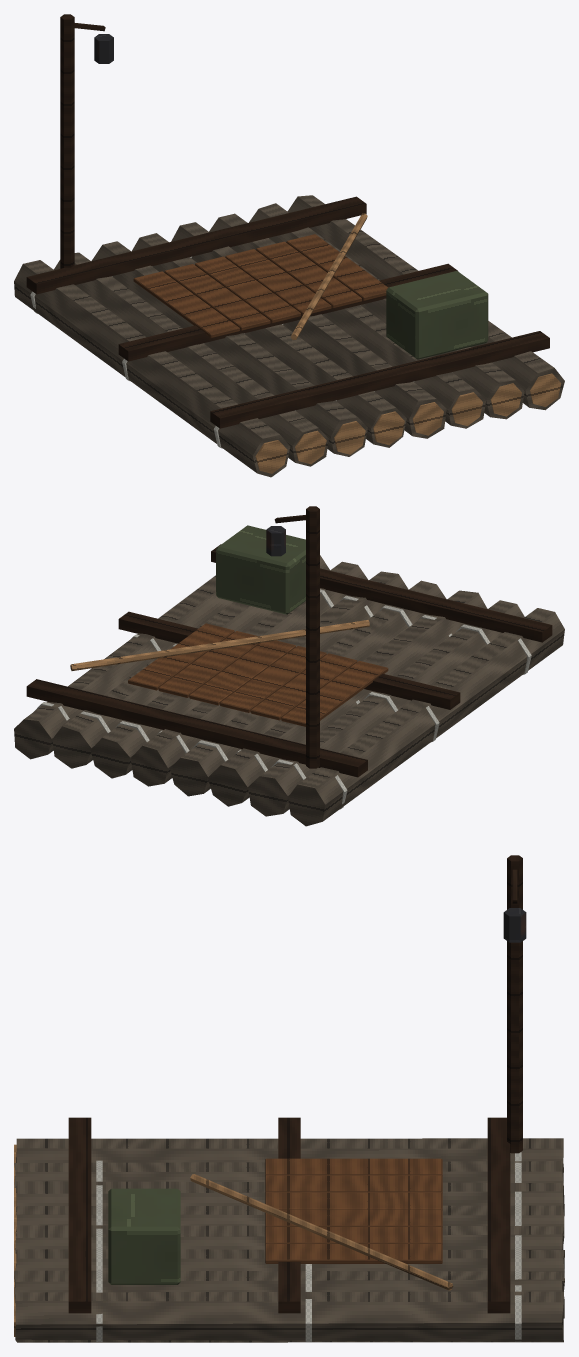
Rendered from raft.glb.
3 views of the same model, one above another, from view 1: azimuth 30°, elevation 25°; view 2: azimuth 150°, elevation 25°; view 3: azimuth 270°, elevation 25° (orthographic). The views are drawn at different scales.
Parts seen in each view (by area): view 1: raft; view 2: raft; view 3: raft.
Boxes of the visible parts, <box> form: raft: <box>14,14,564,477</box>; raft: <box>14,506,564,826</box>; raft: <box>14,855,564,1342</box>.
Size of what is drawn, in the model's own units: 2.7 by 2.33 by 3.42.
8 materials, 7 textured.
